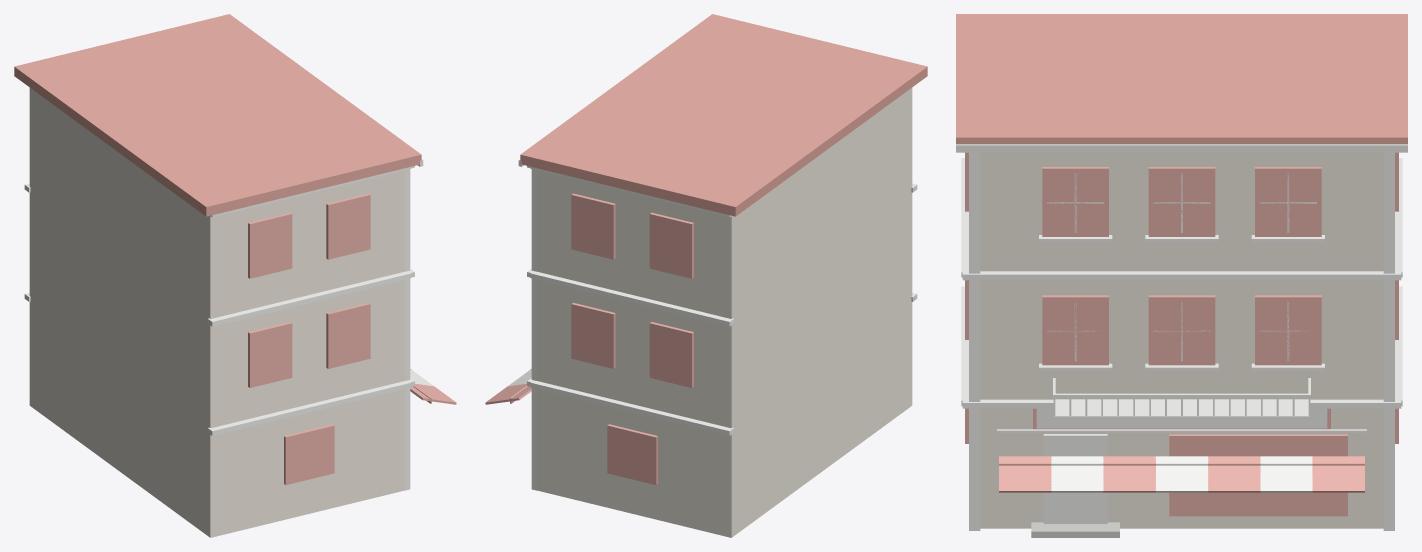
The model's file is Shop_F.fbx.
3 views of the same model, side by side, from view 1: azimuth 30°, elevation 25°; view 2: azimuth 150°, elevation 25°; view 3: azimuth 270°, elevation 25° (orthographic). The views are drawn at different scales.
Parts seen in each view (by area): view 1: Shop_F; view 2: Shop_F; view 3: Shop_F.
Part boxes in pixels (x1=…): Shop_F: x1=14, y1=14, x2=456, y2=537; Shop_F: x1=485, y1=14, x2=927, y2=537; Shop_F: x1=956, y1=14, x2=1407, y2=537.
Size of the model in its own units: 8.23 by 9.94 by 10.2.
